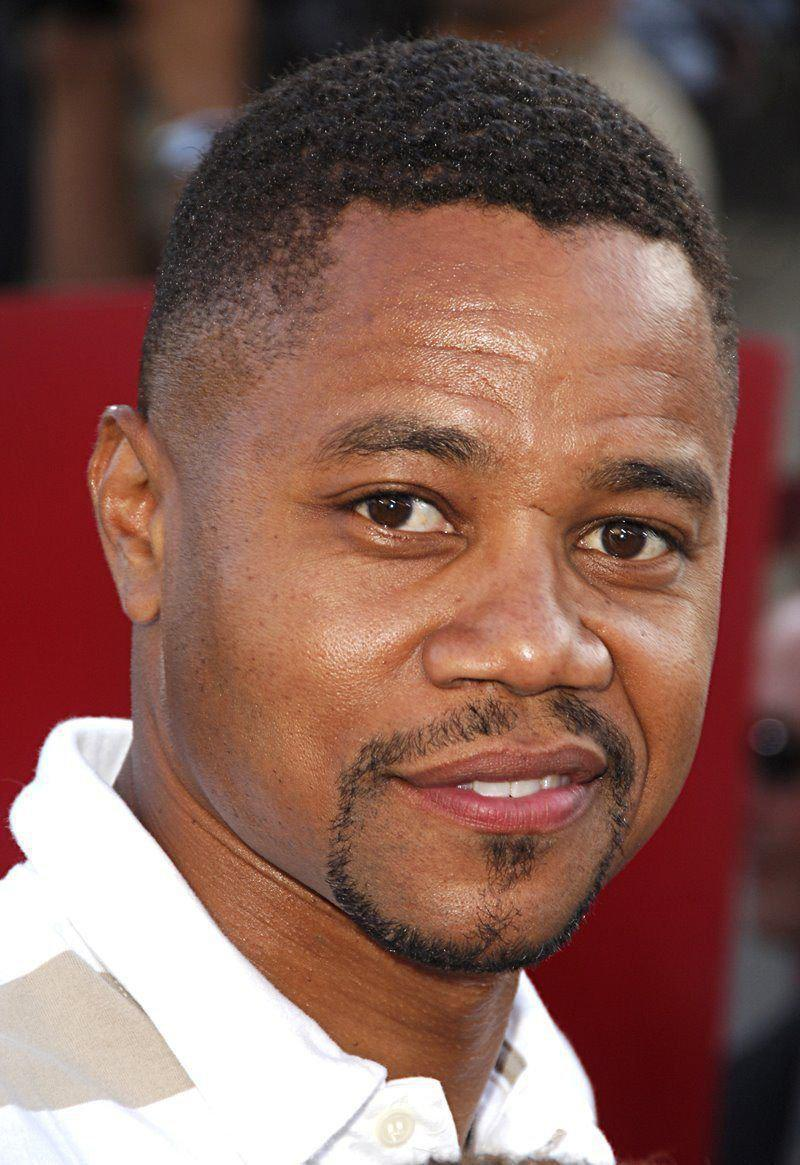Sober: (248, 233, 692, 929)
